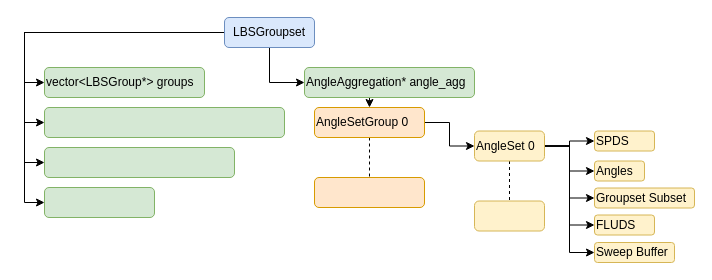
Image size: 712x280. Some labels were removed from this diagram. The centre of each missing label's shape, as x and y in pixels:
AngleSet N: the point at 509,215
AngleSetGroup N: the point at 369,192
chi_math::ProductQuadrature* quadrature: the point at 164,122
Numerical Options: the point at 99,202
vector<GsSubSet> grp_subsets: the point at 139,162
